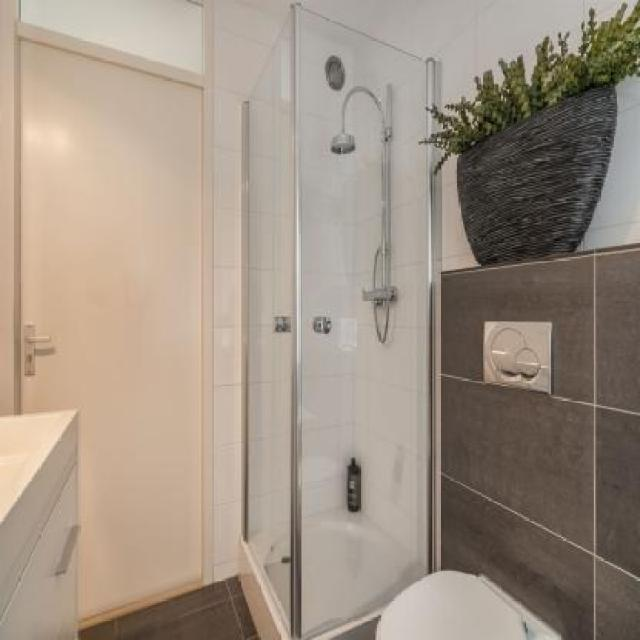floor: (79, 578, 264, 640)
